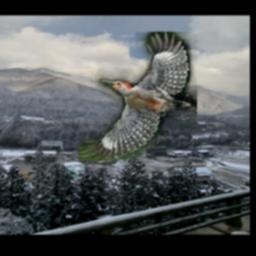Woodpecker: (79, 33, 198, 162)
